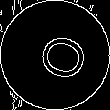O_W: (24, 26, 86, 84)
